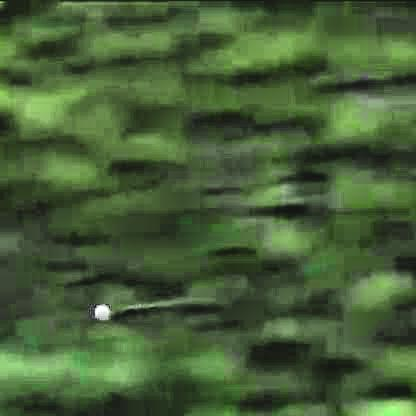golfball: (91, 301, 107, 317)
